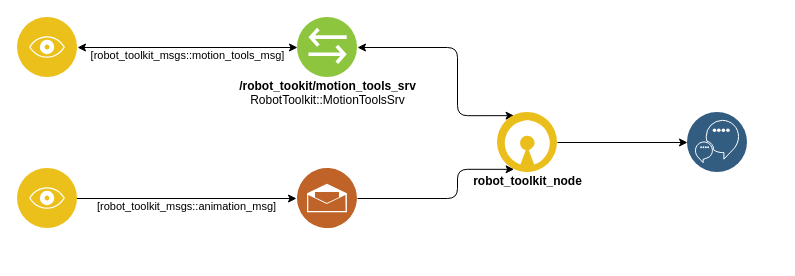
The diagram is 795 pixels wide and 276 high, and some of its shapes have lost their labels. The shapes that lost their labels are listed below. From the top down, each one's centre as x and y in pixels, then its label:
At [717,142]: "AnimationSubscriber".
At [327,198]: "/animations AnimationSubscriber".
